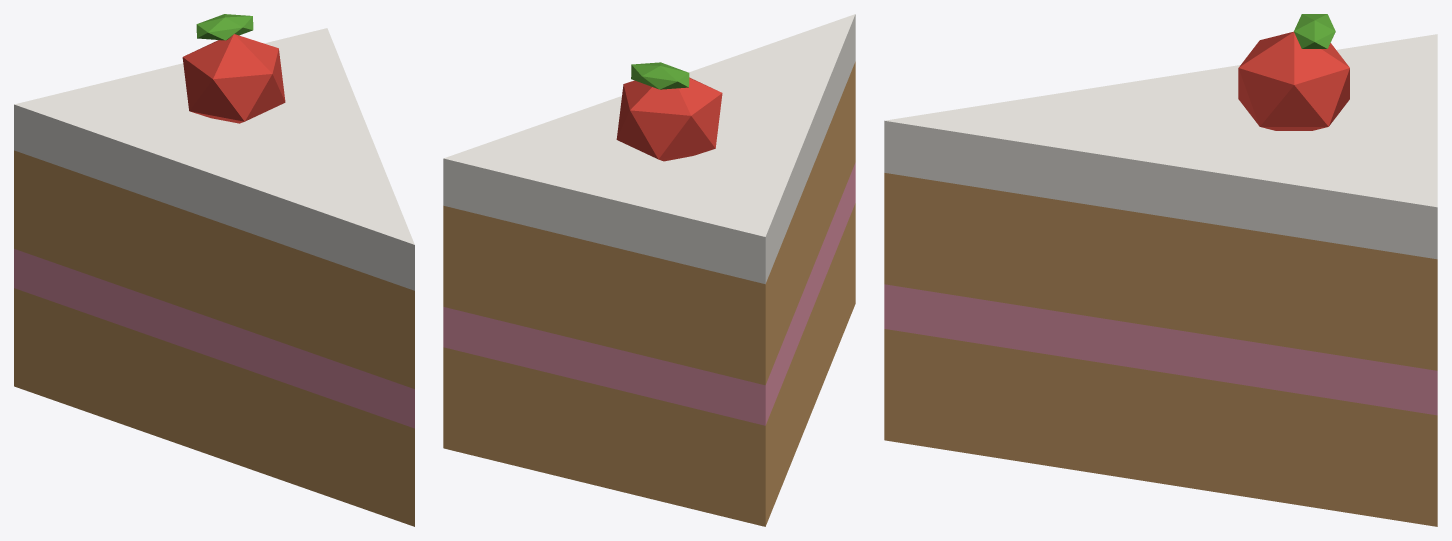
File: cake_slice.glb
3 views of the same model, side by side, from view 1: azimuth 30°, elevation 25°; view 2: azimuth 150°, elevation 25°; view 3: azimuth 270°, elevation 25° (orthographic). The views are drawn at different scales.
Visible parts, largest first — view 1: cake_slice; view 2: cake_slice; view 3: cake_slice.
Boxes of the visible parts, bbox=[...] form: cake_slice: bbox=[14, 14, 414, 526]; cake_slice: bbox=[443, 14, 855, 526]; cake_slice: bbox=[884, 14, 1437, 526].
Bounding box in the file's own units: 0.1 × 0.113 × 0.135.
